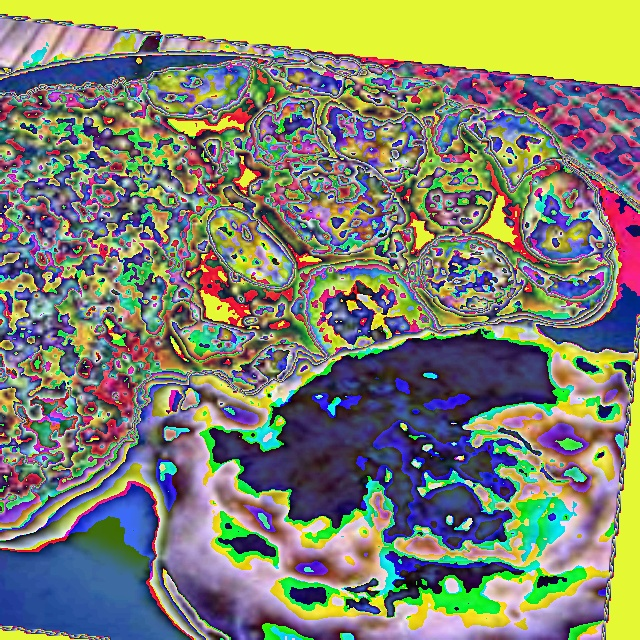background: (0, 60, 635, 639)
